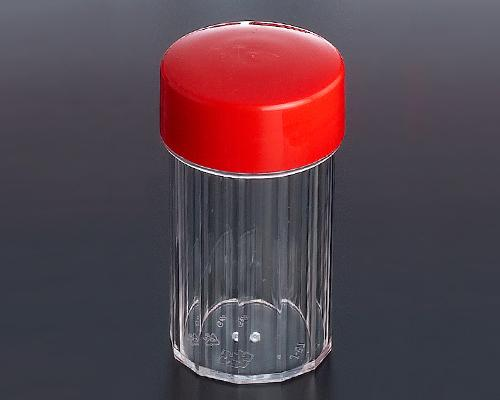medicinejar: (148, 19, 356, 384)
